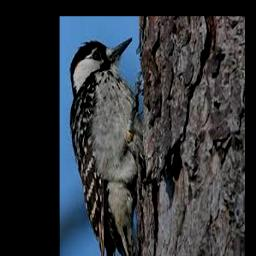Woodpecker: (69, 38, 162, 256)
